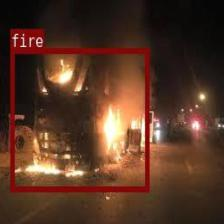fire: (10, 48, 148, 190)
